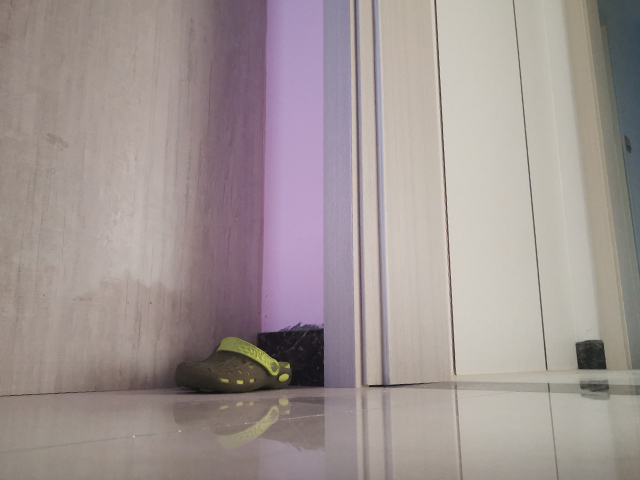slippers: (171, 334, 294, 396)
